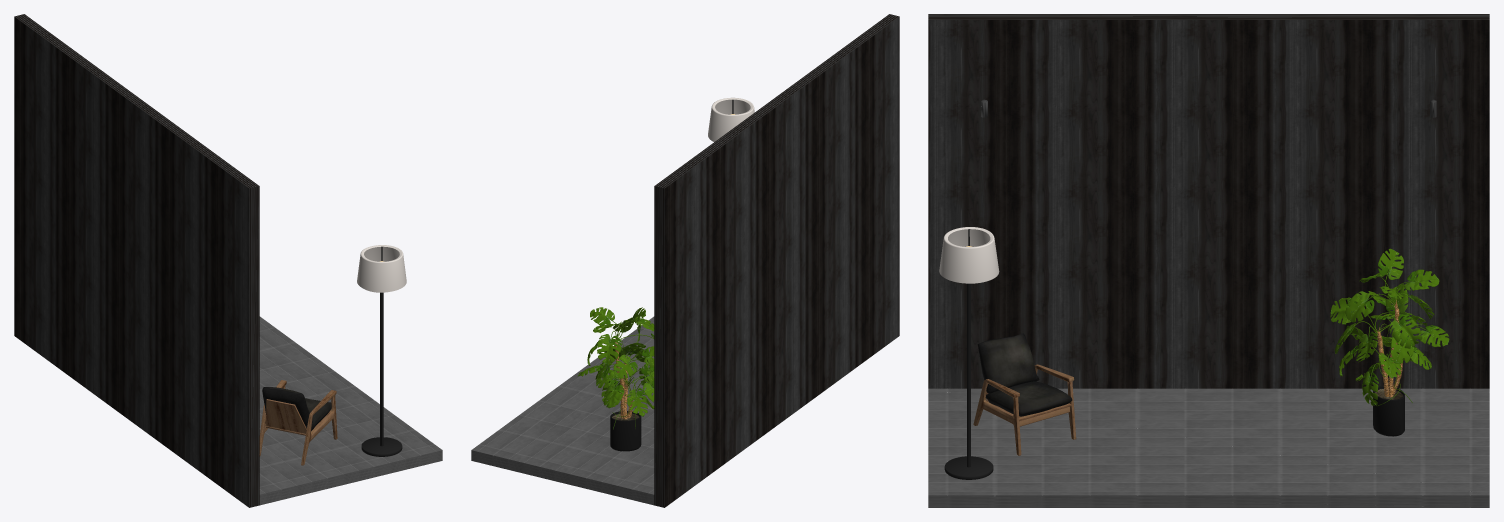
The model's file is neonblackwall-v1.glb.
3 renders of one model, left to right at view 1: azimuth 30°, elevation 25°; view 2: azimuth 150°, elevation 25°; view 3: azimuth 270°, elevation 25°, orthographic. The views are drawn at different scales.
Visible parts, largest first — view 1: Cube.001, Cube, modern_arm_chair_01, Spot lamp-01.001, FloorLamp_Stem; view 2: Cube.001, Cube, plant, Spot lamp-01.001, Big Monstera plant; view 3: Cube.001, Cube, plant, modern_arm_chair_01, Spot lamp-01.001, FloorLamp_Stem, Big Monstera plant.
Part boxes in pixels (bbox=[...]): Cube.001: bbox=[14, 14, 259, 507]; Cube: bbox=[259, 316, 442, 505]; modern_arm_chair_01: bbox=[259, 380, 337, 465]; Spot lamp-01.001: bbox=[357, 245, 406, 292]; FloorLamp_Stem: bbox=[361, 246, 402, 456]; Cube.001: bbox=[654, 14, 899, 507]; Cube: bbox=[471, 316, 654, 505]; plant: bbox=[578, 307, 654, 429]; Spot lamp-01.001: bbox=[708, 97, 754, 141]; Big Monstera plant: bbox=[610, 411, 641, 451]; Cube.001: bbox=[928, 14, 1489, 388]; Cube: bbox=[928, 388, 1489, 507]; plant: bbox=[1330, 248, 1449, 405]; modern_arm_chair_01: bbox=[973, 333, 1076, 455]; Spot lamp-01.001: bbox=[939, 99, 1436, 283]; FloorLamp_Stem: bbox=[944, 229, 993, 479]; Big Monstera plant: bbox=[1373, 386, 1404, 436].
Bounding box in the file's own units: 3.8 × 6 × 8.
Materials: 12 (12 with a texture image).
